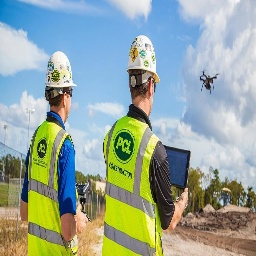helmet: (126, 37, 160, 86), (46, 51, 79, 91)
person: (103, 34, 176, 256), (20, 50, 80, 256)
vest: (106, 112, 163, 256), (30, 121, 71, 256)
